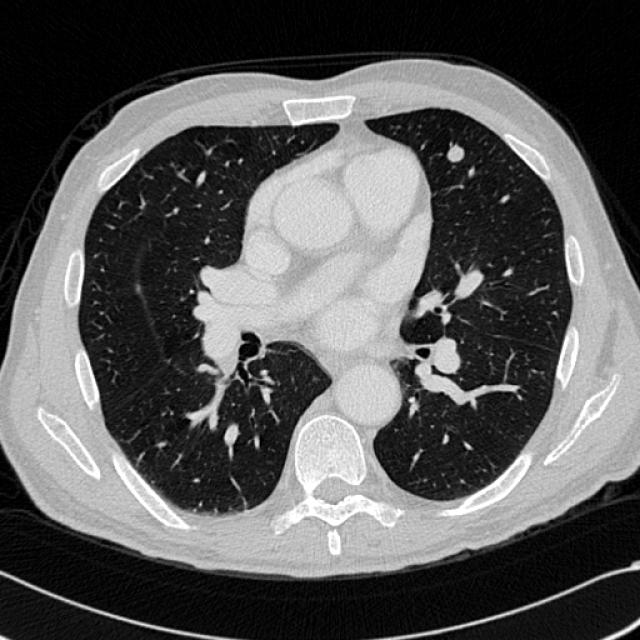nodule: (435, 134, 475, 174)
